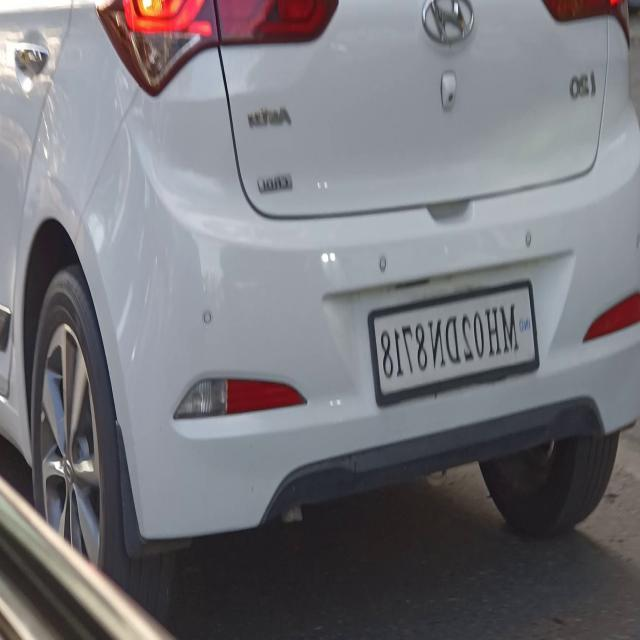license_plate: (365, 268, 543, 415)
